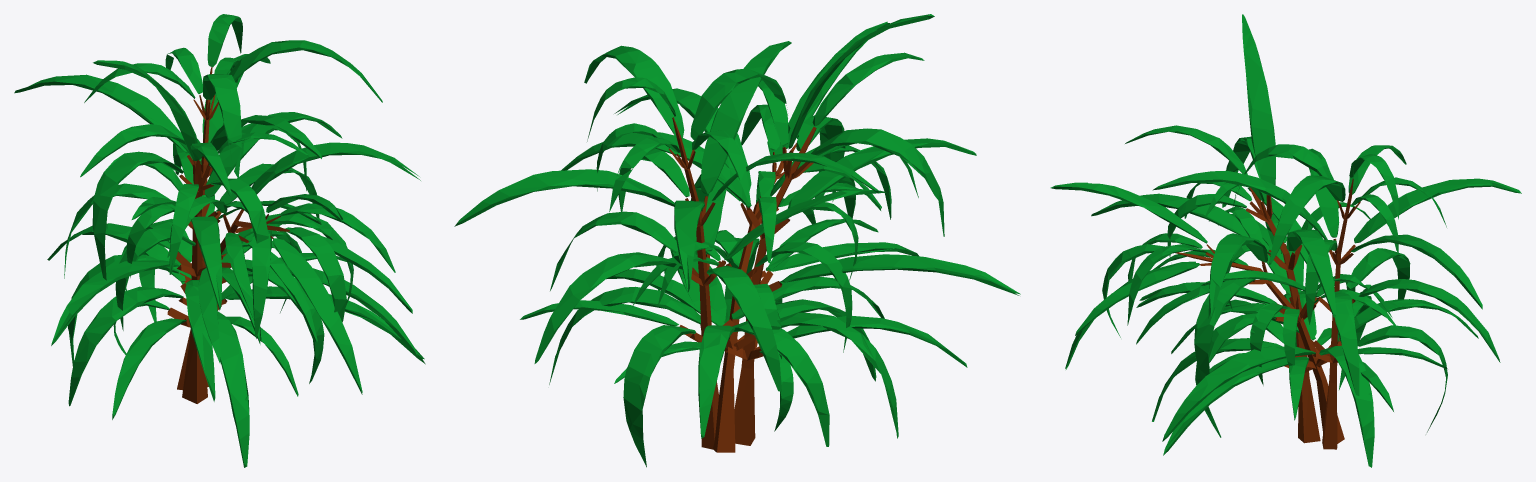
Rendered from ShrubDraca03.fbx.
The picture shows the model from 3 angles, left to right: view 1: azimuth 30°, elevation 25°; view 2: azimuth 150°, elevation 25°; view 3: azimuth 270°, elevation 25°; orthographic projection. The views are drawn at different scales.
Visible parts, largest first — view 1: ShrubDraca03_LOD0; view 2: ShrubDraca03_LOD0; view 3: ShrubDraca03_LOD0.
Boxes of the visible parts, x1,y1,x2,y2 form: ShrubDraca03_LOD0: (14, 14, 425, 467); ShrubDraca03_LOD0: (454, 14, 1020, 467); ShrubDraca03_LOD0: (1050, 14, 1521, 467).
Size of what is drawn, in the model's own units: 104 by 106 by 124.
